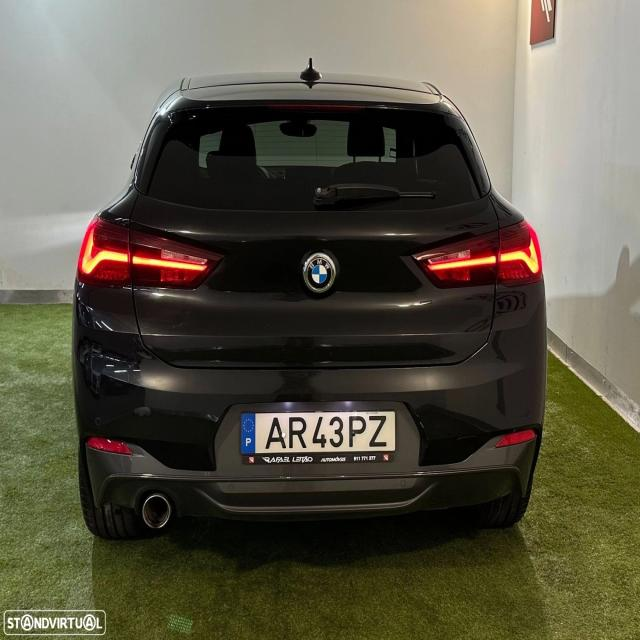portuguese-license-plates: (240, 411, 396, 454)
